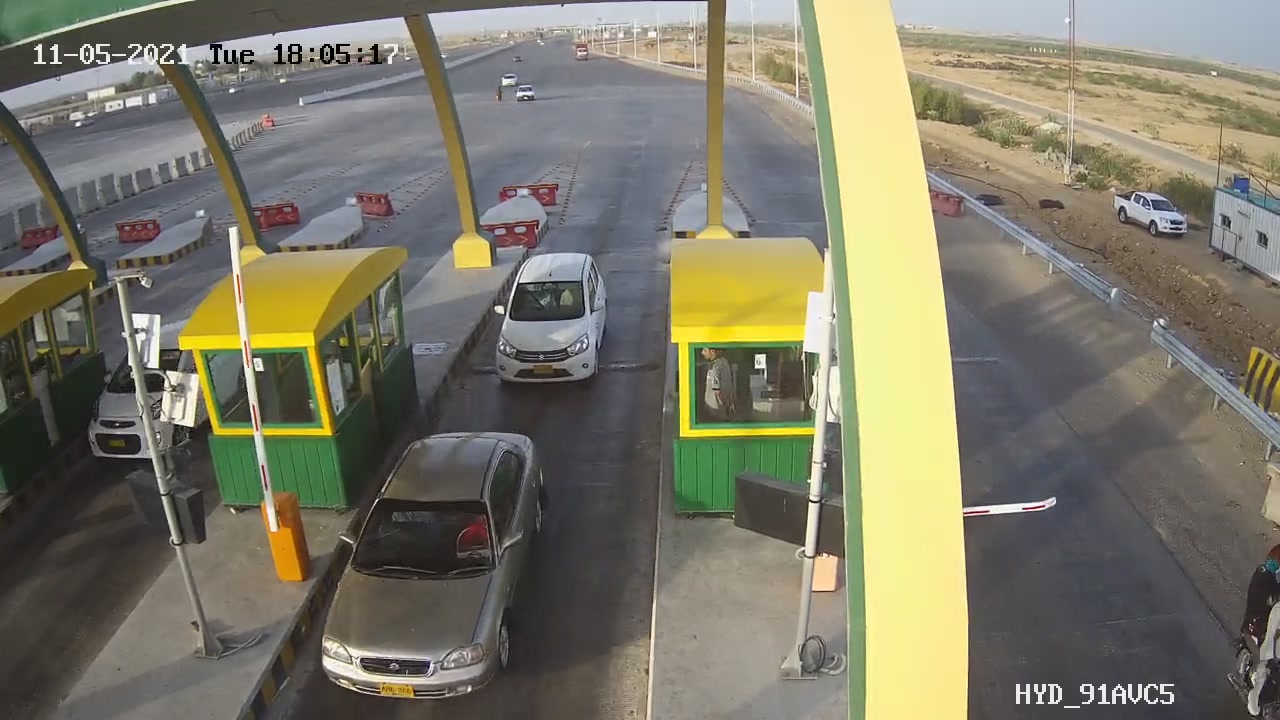F1: (474, 244, 634, 407)
